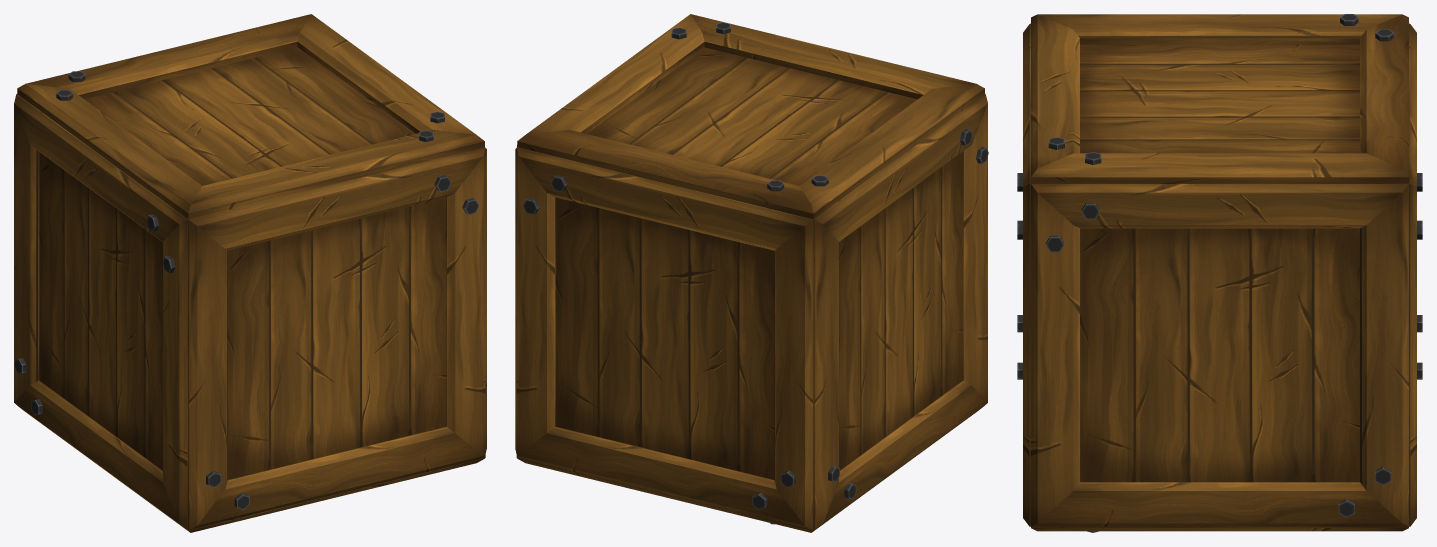
File: WoodenBox.fbx
3 renders of one model, left to right at view 1: azimuth 30°, elevation 25°; view 2: azimuth 150°, elevation 25°; view 3: azimuth 270°, elevation 25°, orthographic. The views are drawn at different scales.
Parts seen in each view (by area): view 1: Crate02; view 2: Crate02; view 3: Crate02.
Boxes of the visible parts, x1,y1,x2,y2 form: Crate02: [14, 14, 486, 532]; Crate02: [515, 14, 988, 532]; Crate02: [1017, 14, 1422, 532].
Bounding box in the file's own units: 189 × 193 × 190.
Materials: 1 (1 with a texture image).
